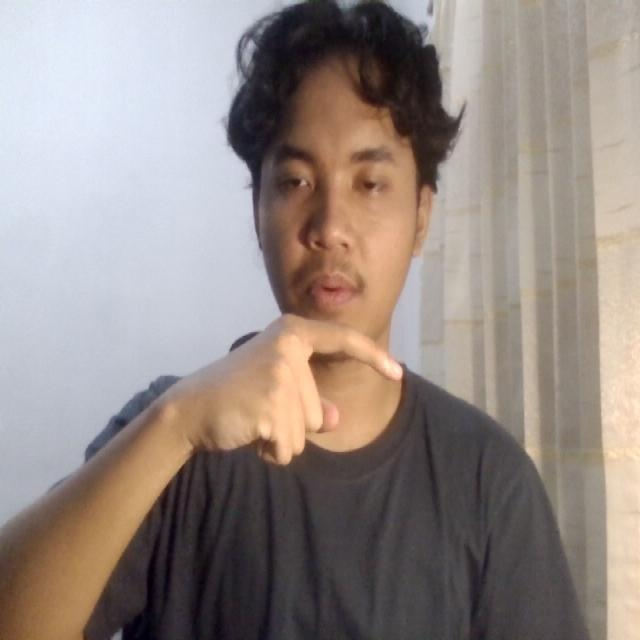N: (218, 298, 423, 490)
